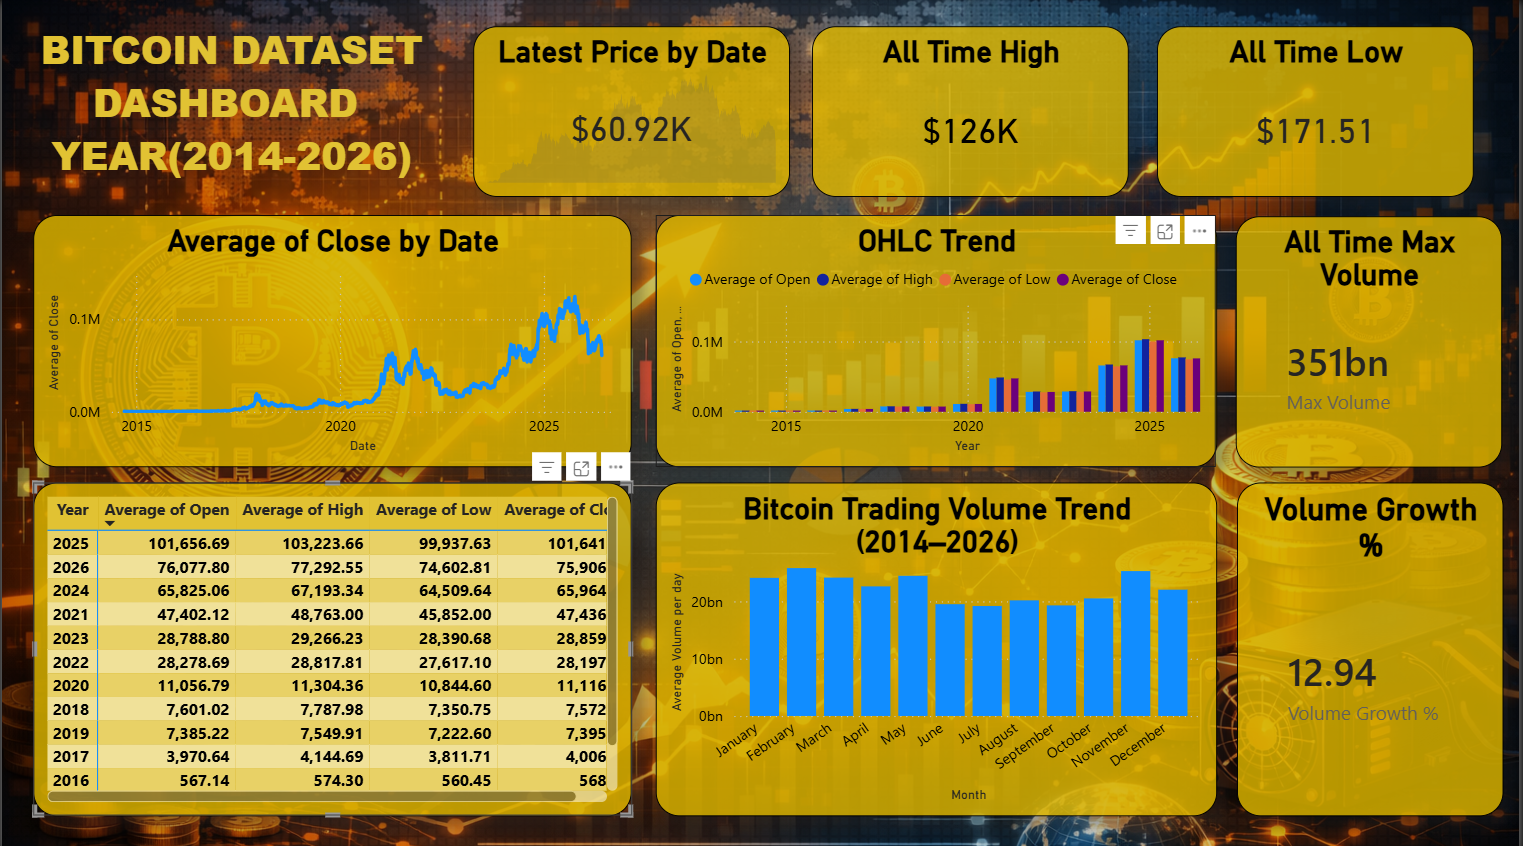

The page's visual inventory and layout, read from the dashboard file:
{"tool":"powerbi","page":{"name":"BitCoin  Dashboard","canvas":[1280,720],"ordinal":0},"visuals":[{"type":"kpi","fields":{"Indicator":["bitcoin_dataset.Latest Price"],"TrendLine":["bitcoin_dataset.Date"]},"box":[397.7,22.1,267.4,144.2],"z":0},{"type":"textbox","box":[9.3,14,368.6,193],"z":1000},{"type":"card","title":"All Time High","fields":{"Values":["bitcoin_dataset.All time high"]},"box":[683.7,22.1,267.4,144.2],"z":2000},{"type":"card","title":"All Time Low","fields":{"Values":["bitcoin_dataset.All Time Low"]},"box":[974.4,22.1,267.4,144.2],"z":3000},{"type":"lineChart","fields":{"Category":["bitcoin_dataset.Date"],"Y":["Avg(bitcoin_dataset.Close)"]},"box":[26.7,181.4,504.7,212.8],"z":4000},{"type":"clusteredColumnChart","title":"OHLC Trend","fields":{"Category":["bitcoin_dataset.Date.Variation.Date Hierarchy.Year"],"Y":["Avg(bitcoin_dataset.Open)","Avg(bitcoin_dataset.High)","Avg(bitcoin_dataset.Low)","Avg(bitcoin_dataset.Close)"]},"box":[551.2,181.4,473.3,212.8],"z":5000},{"type":"pivotTable","title":"OHLC Trend","fields":{"Rows":["bitcoin_dataset.Date.Variation.Date Hierarchy.Year"],"Values":["Avg(bitcoin_dataset.Open)","Avg(bitcoin_dataset.High)","Avg(bitcoin_dataset.Low)","Avg(bitcoin_dataset.Close)"]},"box":[26.4,407,505.1,281.5],"z":6000},{"type":"columnChart","title":"Bitcoin Trading Volume Trend (2014–2026)","fields":{"Category":["bitcoin_dataset.Date.Variation.Date Hierarchy.Month"],"Y":["bitcoin_dataset.Average Volume per day"]},"box":[551.5,407,473.5,281.5],"z":7000},{"type":"cardVisual","title":"All Time Max Volume ","fields":{"Data":["bitcoin_dataset.Max Volume"]},"box":[1040.7,182.6,224.4,211.6],"z":7001},{"type":"cardVisual","title":"Volume Growth %","fields":{"Data":["bitcoin_dataset.Volume Growth %"]},"box":[1041.9,407,224.4,281.4],"z":7002}]}

Visuals, with their boxes in screenshot pixels (x1, y1, x2, y2), scaled from the page's 1280x720 canvas onto the 1523x846 screenshot:
kpi - bitcoin_dataset.Latest Price x bitcoin_dataset.Date: 473 26 791 195
textbox: 11 16 450 243
"All Time High" card: 813 26 1132 195
"All Time Low" card: 1159 26 1478 195
lineChart - bitcoin_dataset.Date x Avg(bitcoin_dataset.Close): 32 213 632 463
"OHLC Trend" clusteredColumnChart: 656 213 1219 463
"OHLC Trend" pivotTable: 31 478 632 809
"Bitcoin Trading Volume Trend (2014–2026)" columnChart: 656 478 1220 809
"All Time Max Volume " cardVisual: 1238 215 1505 463
"Volume Growth %" cardVisual: 1240 478 1507 809
